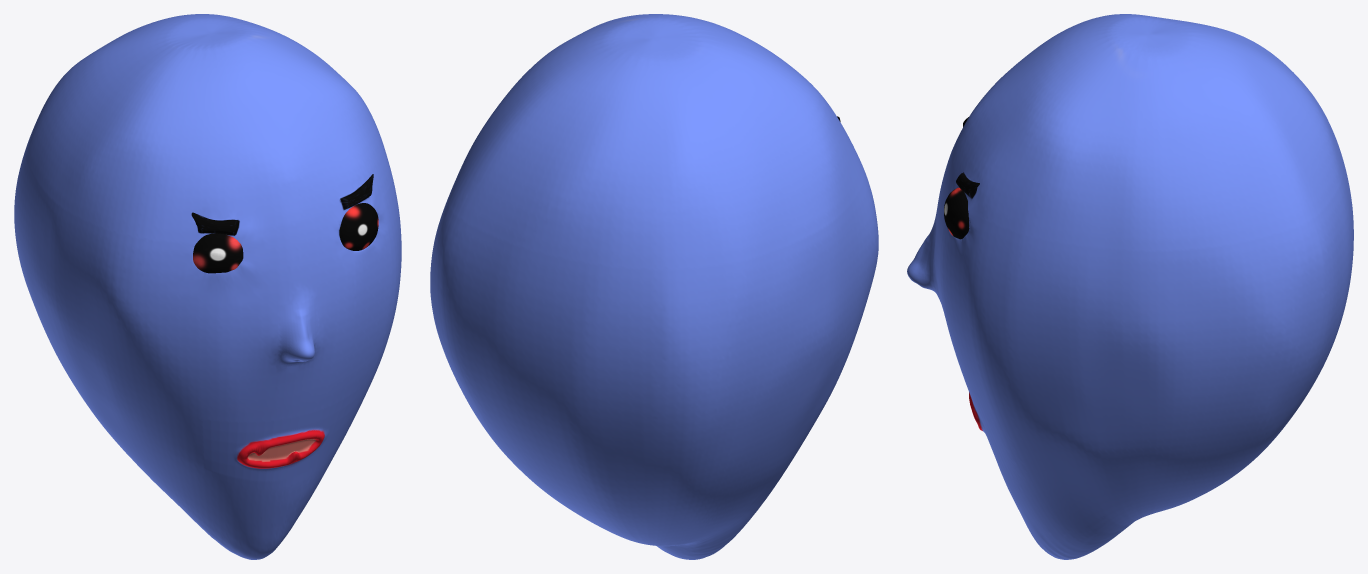
Rendered from head.fbx.
The picture shows the model from 3 angles, left to right: view 1: azimuth 30°, elevation 25°; view 2: azimuth 150°, elevation 25°; view 3: azimuth 270°, elevation 25°; orthographic projection. The views are drawn at different scales.
Visible parts, largest first — view 1: head; view 2: head; view 3: head.
Boxes of the visible parts, left/top/right/bottom form: head: left=14, top=14, right=401, bottom=559; head: left=430, top=14, right=878, bottom=559; head: left=907, top=14, right=1353, bottom=559.
Size of the model in its own units: 91.57 by 138 by 106.
